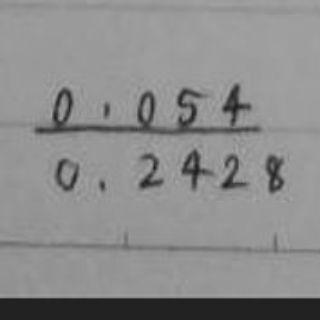.: (97, 99, 114, 121), (95, 176, 109, 194)
0: (53, 157, 80, 192), (51, 85, 73, 126), (135, 89, 156, 126)
2: (218, 154, 251, 190), (135, 152, 165, 188)
4: (179, 148, 215, 192), (220, 82, 253, 127)
5: (176, 86, 204, 127)
8: (264, 153, 287, 195)
